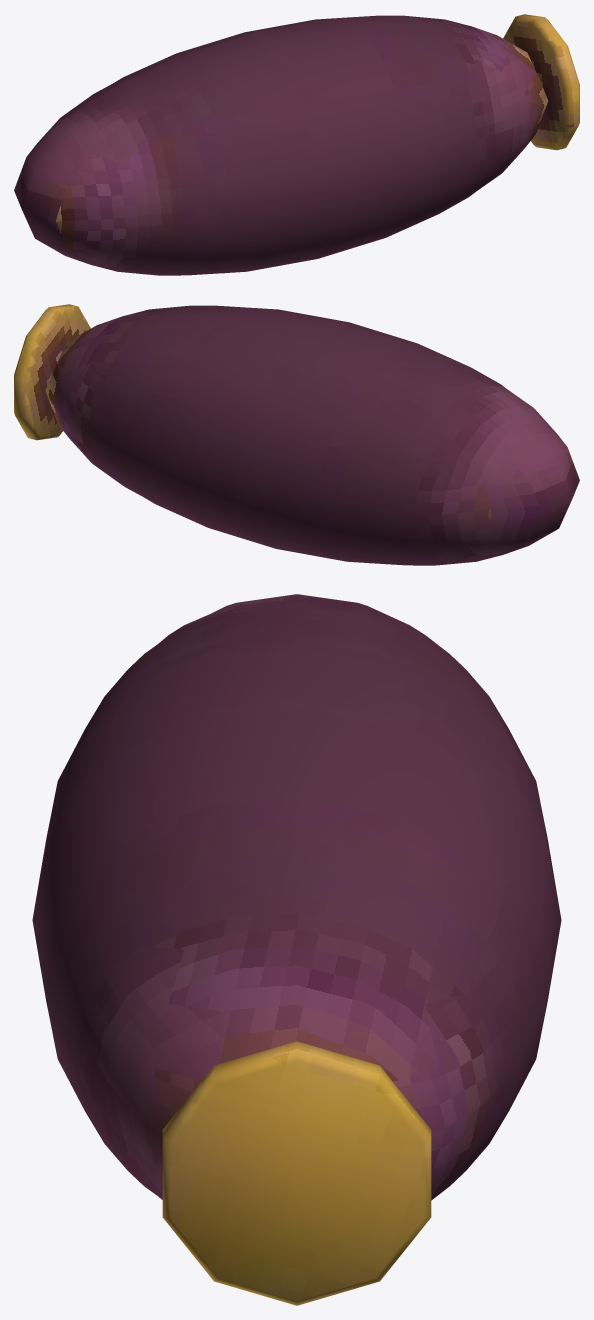
The model's file is pellet_yakiimo.glb.
3 views of the same model, one above another, from view 1: azimuth 30°, elevation 25°; view 2: azimuth 150°, elevation 25°; view 3: azimuth 270°, elevation 25° (orthographic). The views are drawn at different scales.
Parts seen in each view (by area): view 1: prop_pellet_yakiimo_felt; view 2: prop_pellet_yakiimo_felt; view 3: prop_pellet_yakiimo_felt.
Part boxes in pixels (bbox=[...]): prop_pellet_yakiimo_felt: bbox=[14, 14, 579, 275]; prop_pellet_yakiimo_felt: bbox=[14, 304, 579, 565]; prop_pellet_yakiimo_felt: bbox=[32, 594, 561, 1305].
Bounding box in the file's own units: 0.1035 × 0.039 × 0.045.
Materials: 1 (1 with a texture image).
